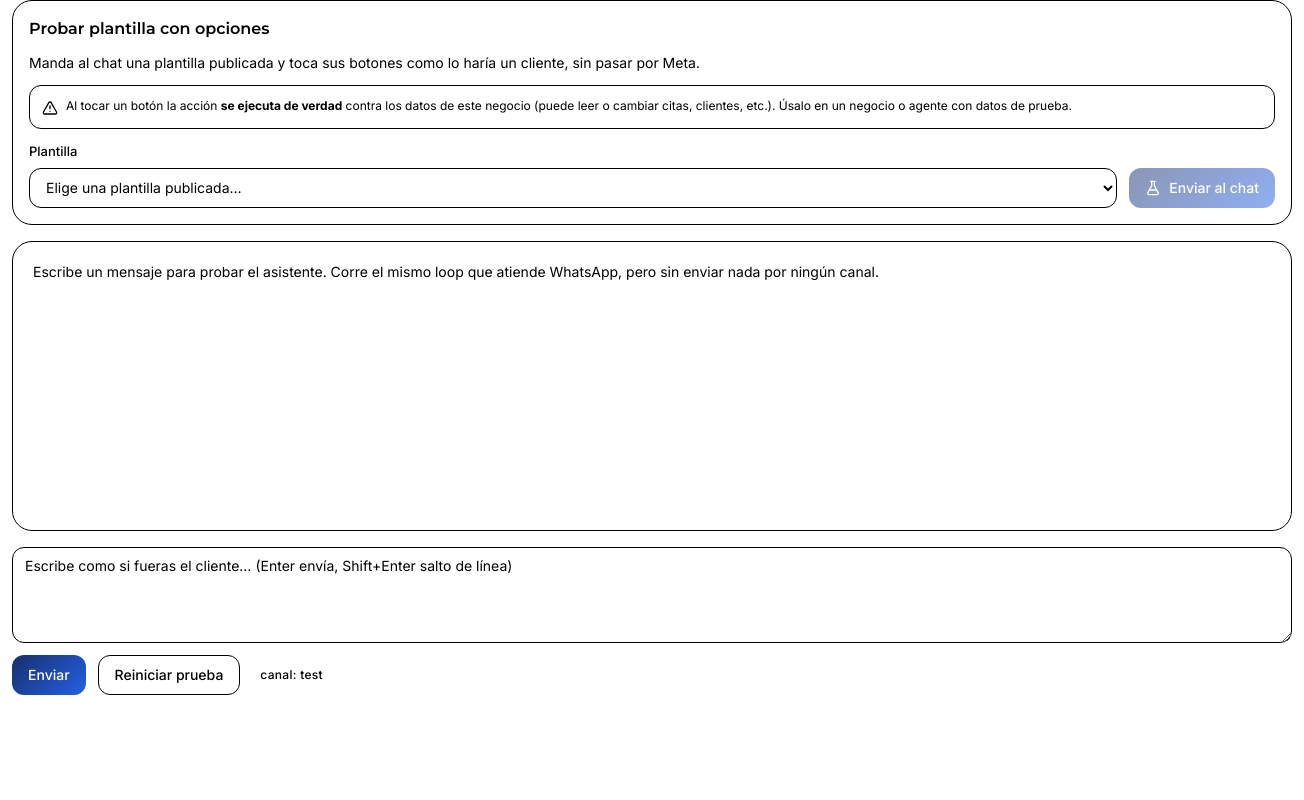
Test: Probar plantilla con opciones › un toque descartado o repetido se explica aunque no traiga mensajes
The image size is (1304, 800).
Select "Ver mis citas" in the dropdown labelled "Plantilla" at (573, 188), box [29,168,1117,208]
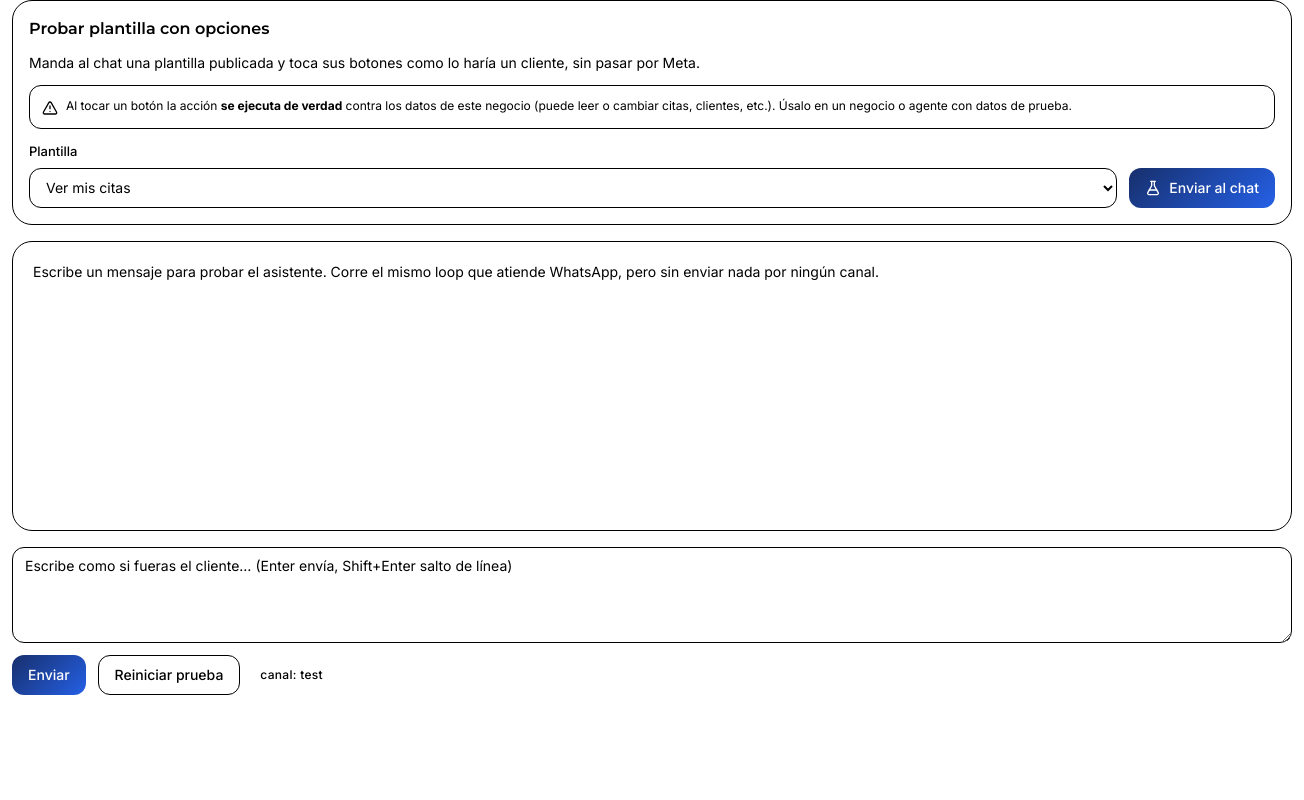
Click the button "Enviar al chat" at (1202, 188), box [1129,168,1275,208]
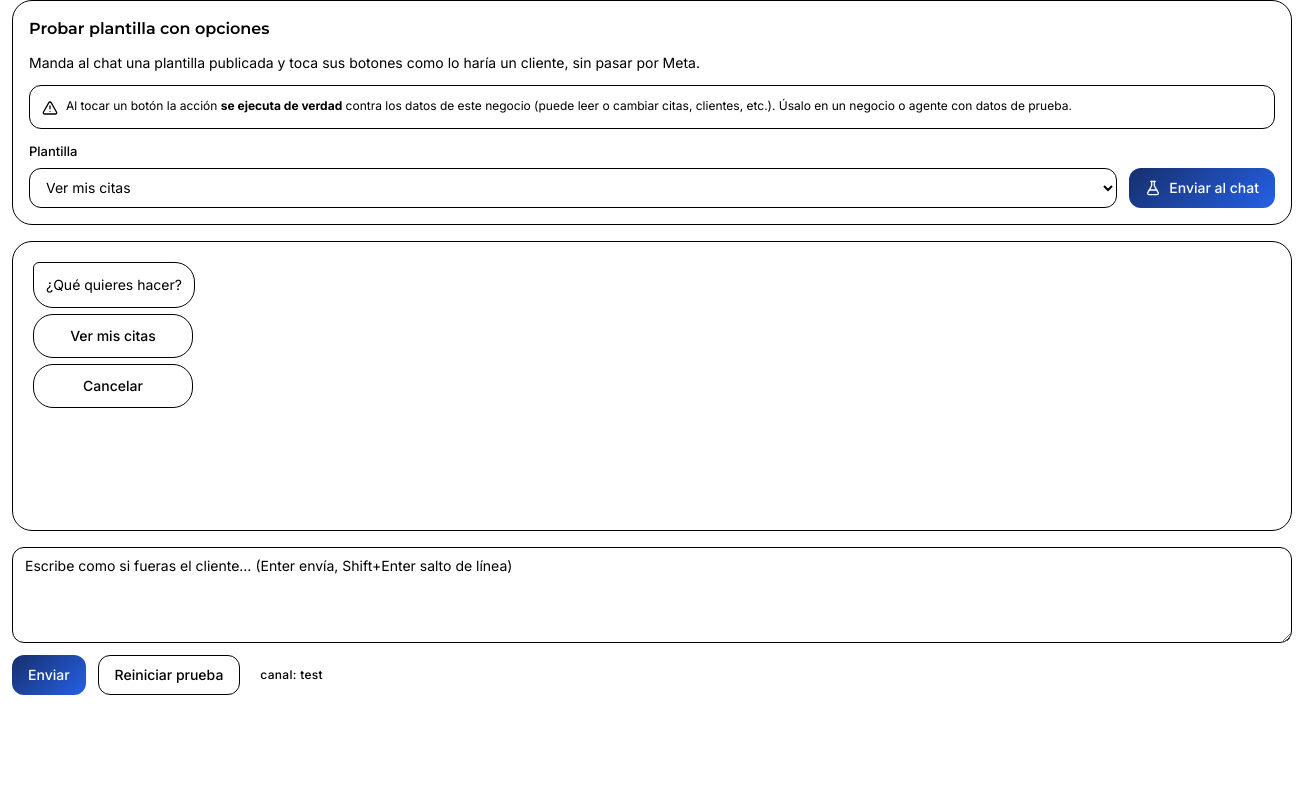
Click the button "Cancelar" at (113, 386), box [33,364,193,408]
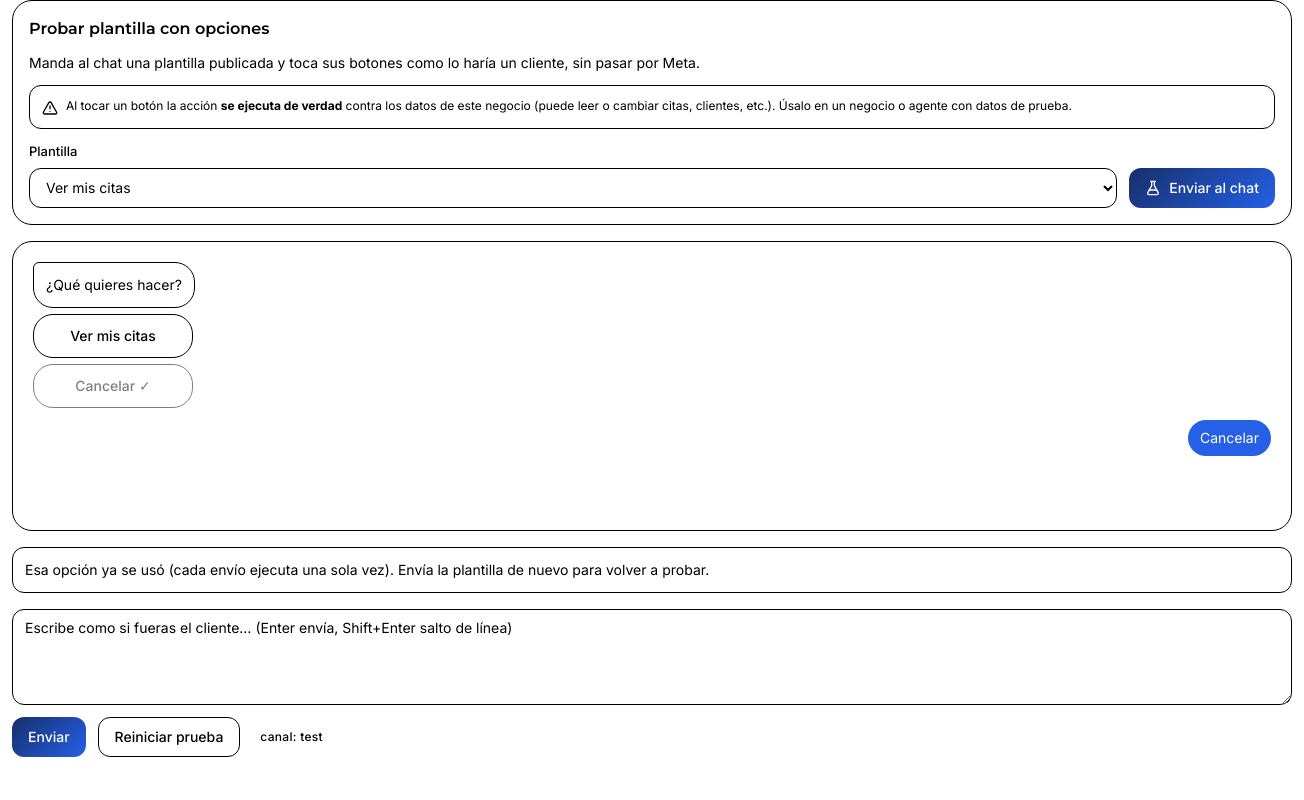
Now the message shows "ya se usó", box [25,561,709,578]
